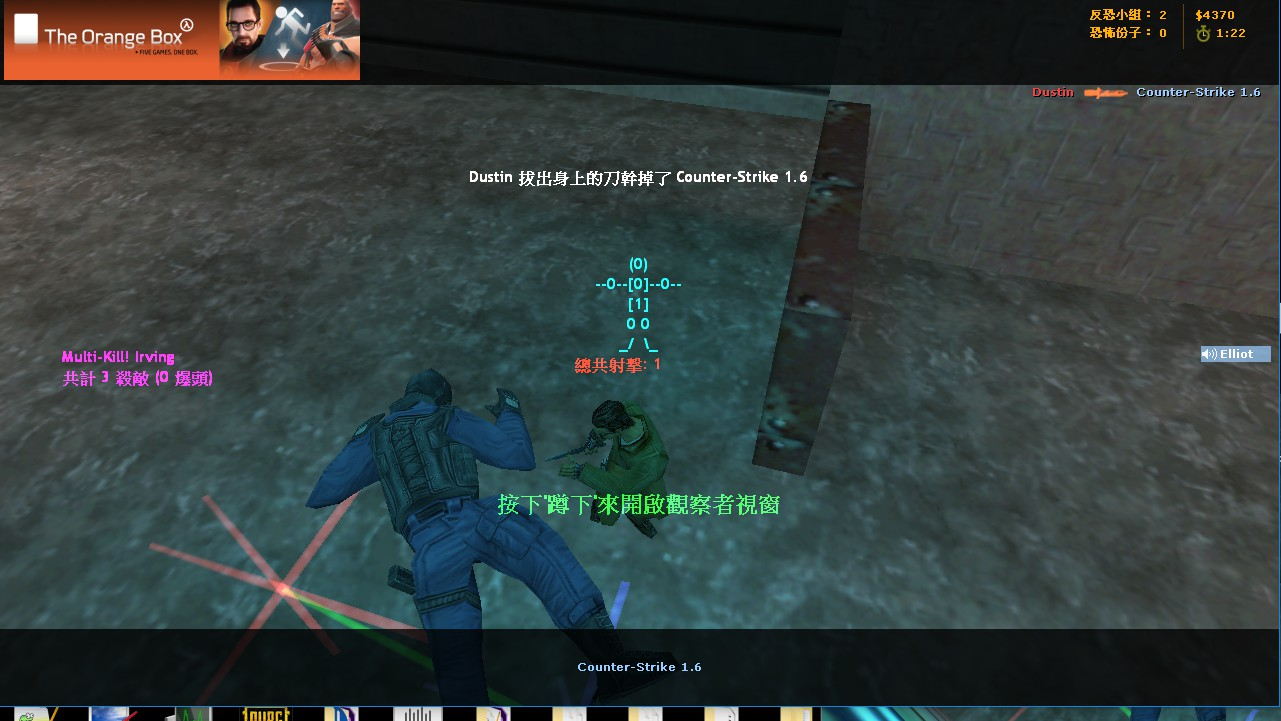person: (566, 397, 683, 548)
